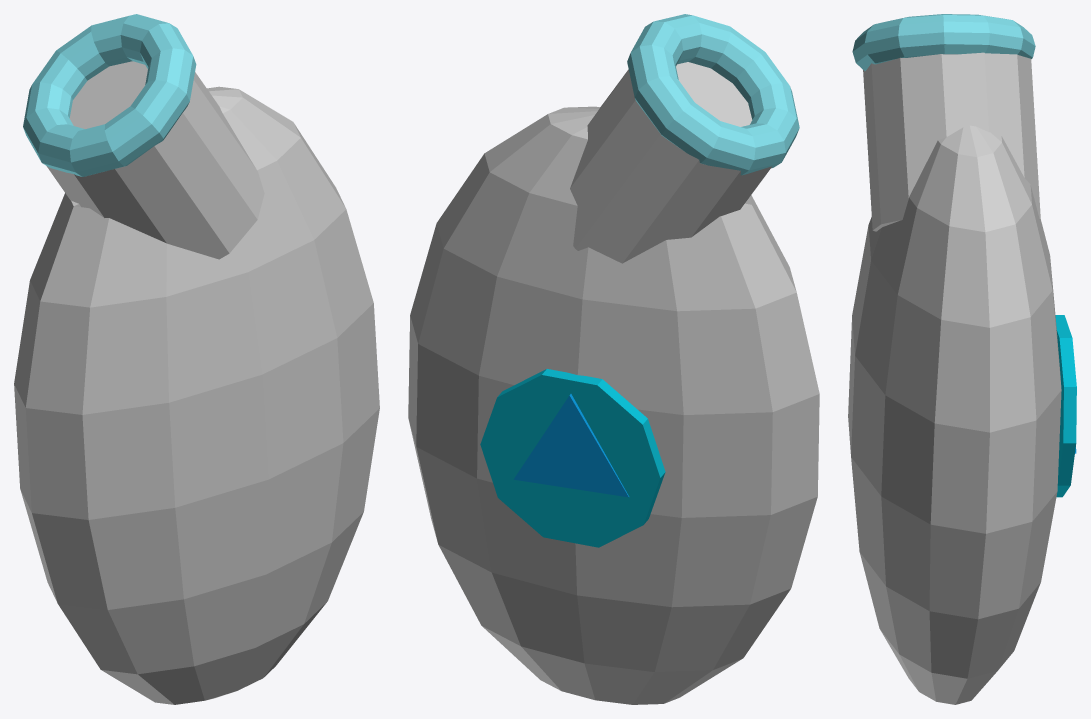
File: Freeze_Therrin.fbx
3 renders of one model, left to right at view 1: azimuth 30°, elevation 25°; view 2: azimuth 150°, elevation 25°; view 3: azimuth 270°, elevation 25°, orthographic. The views are drawn at different scales.
Visible parts, largest first — view 1: group_1484005199; view 2: group_1484005199; view 3: group_1484005199.
Boxes of the visible parts, x1=… form: group_1484005199: x1=14, y1=14, x2=379, y2=704; group_1484005199: x1=408, y1=14, x2=819, y2=704; group_1484005199: x1=848, y1=14, x2=1076, y2=704.
Bounding box in the file's own units: 15.75 × 27.58 × 8.74.
